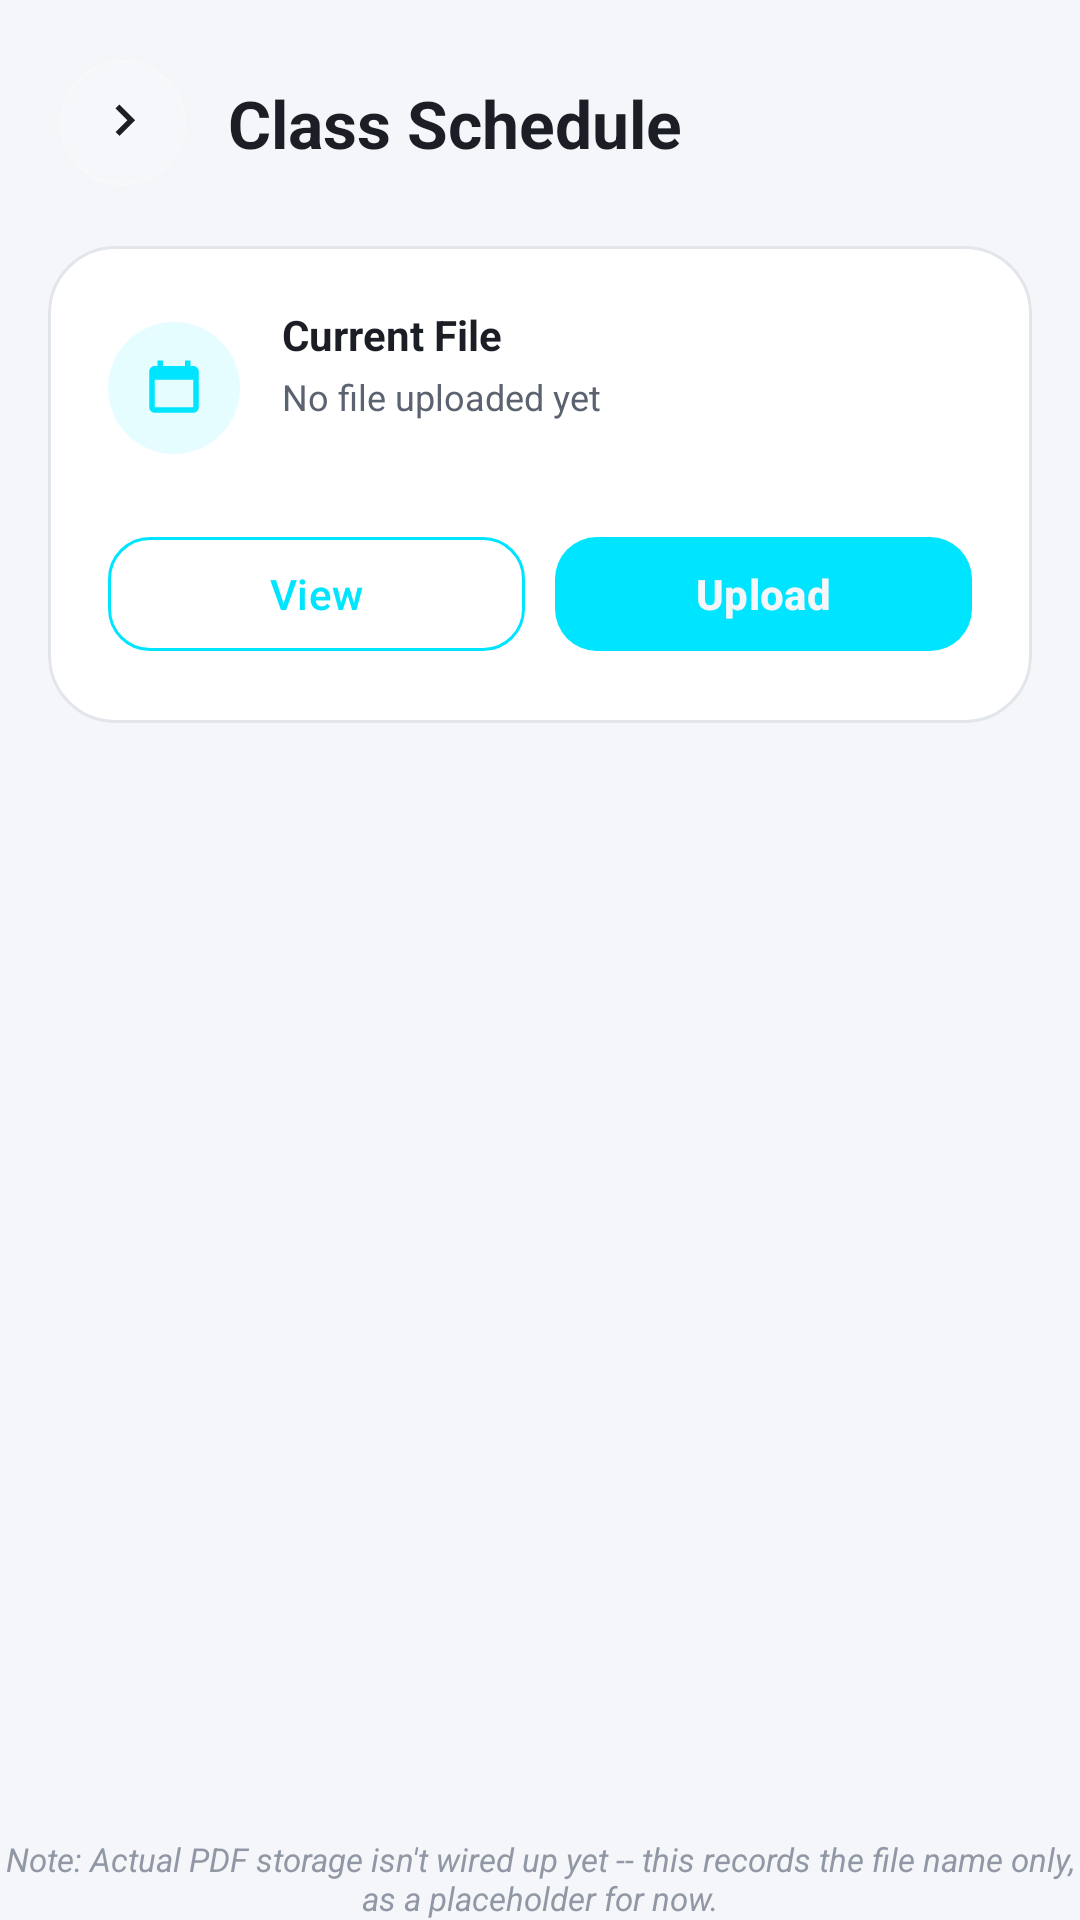

Locate icon controls on the screen. Image size 1080 x 1920, boxes as (x1, y1, x2, y2).
arrow: (115, 104, 135, 136)
shedule: (149, 360, 199, 413)
